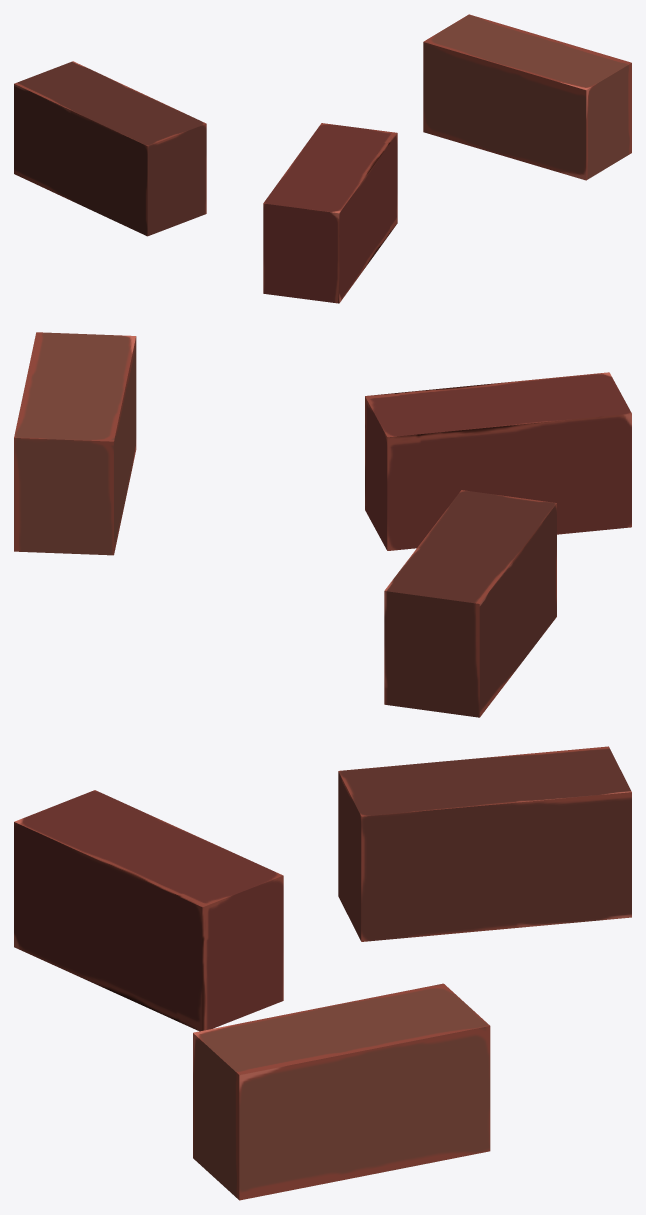
The model's file is debris_bricks03.fbx.
3 renders of one model, top to bottom at view 1: azimuth 30°, elevation 25°; view 2: azimuth 150°, elevation 25°; view 3: azimuth 270°, elevation 25°, orthographic. The views are drawn at different scales.
Parts seen in each view (by area): view 1: debris_bricks03; view 2: debris_bricks03; view 3: debris_bricks03.
Boxes of the visible parts, x1,y1,x2,y2 form: debris_bricks03: (14,14,631,303); debris_bricks03: (14,332,631,717); debris_bricks03: (14,746,631,1200).
Bounding box in the file's own units: 141 × 25 × 112.
